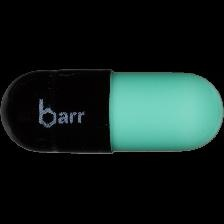54868-0070: (0, 0, 224, 224)
